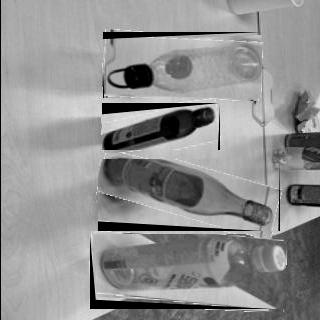bottle: (88, 234, 285, 310), (100, 159, 284, 232), (101, 32, 261, 99), (100, 103, 219, 151)
